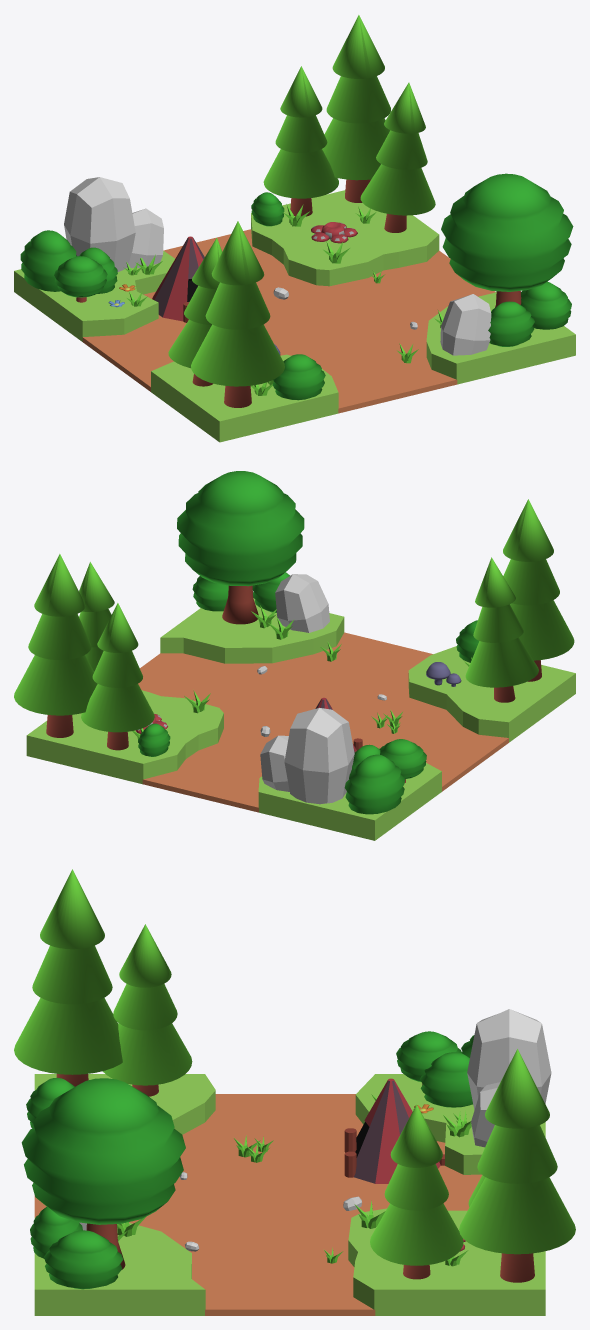
File: jungle level set - 4 Way.fbx
The picture shows the model from 3 angles, top to bottom: view 1: azimuth 30°, elevation 25°; view 2: azimuth 150°, elevation 25°; view 3: azimuth 270°, elevation 25°; orthographic projection. The views are drawn at different scales.
Parts seen in each view (by area): view 1: land_platform, tree_003, tree_006, tree_001, tree_002, tree, stone, tree_005, stone_004, camp, bush_003, bush_005 (+7 smaller); view 2: land_platform, tree_003, tree_001, tree_006, tree, tree_005, stone, bush_003, stone_004, tree_002, stone_001, tree_004 (+4 smaller); view 3: land_platform, tree_003, tree_001, tree_006, tree_002, tree_005, stone, camp, bush, bush_001, tree_004, bush_004 (+2 smaller).
Boxes of the visible parts, x1,y1,x2,y2 form: land_platform: [14, 190, 575, 442]; tree_003: [441, 173, 573, 307]; tree_006: [191, 221, 284, 407]; tree_001: [322, 15, 390, 202]; tree_002: [360, 82, 435, 232]; tree: [263, 66, 338, 216]; stone: [64, 177, 135, 271]; tree_005: [168, 238, 222, 386]; stone_004: [440, 294, 491, 355]; camp: [152, 236, 204, 322]; bush_003: [20, 230, 76, 291]; bush_005: [273, 354, 325, 400]; land_platform: [26, 598, 575, 840]; tree_003: [177, 471, 304, 624]; tree_001: [14, 554, 97, 737]; tree_006: [503, 499, 574, 681]; tree: [81, 603, 154, 750]; tree_005: [465, 557, 538, 702]; stone: [284, 707, 354, 804]; bush_003: [344, 754, 405, 814]; stone_004: [275, 574, 329, 632]; tree_002: [79, 562, 114, 671]; stone_001: [260, 735, 289, 791]; tree_004: [379, 739, 426, 782]; land_platform: [34, 1074, 545, 1315]; tree_003: [21, 1078, 185, 1269]; tree_001: [459, 1049, 575, 1282]; tree_006: [14, 869, 122, 1086]; tree_002: [370, 1104, 463, 1279]; tree_005: [103, 924, 192, 1096]; stone: [467, 1009, 551, 1109]; camp: [344, 1078, 444, 1183]; bush: [44, 1230, 123, 1289]; bush_001: [420, 1052, 472, 1107]; tree_004: [396, 1031, 461, 1085]; bush_004: [30, 1207, 82, 1258].
Bounding box in the file's own units: 16.26 × 8.53 × 16.7.
